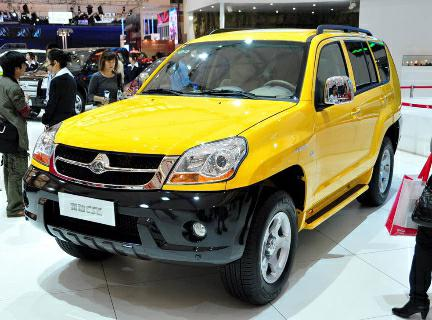猎豹汽车-猎豹CS6: (15, 21, 406, 310)
